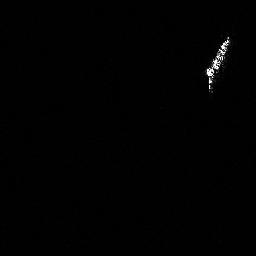ship: (203, 33, 233, 94)
